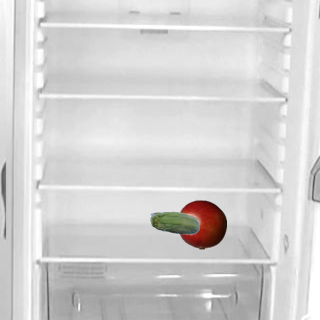Apple Braeburn: (176, 199, 226, 249)
Corn Husk: (149, 199, 199, 249)
